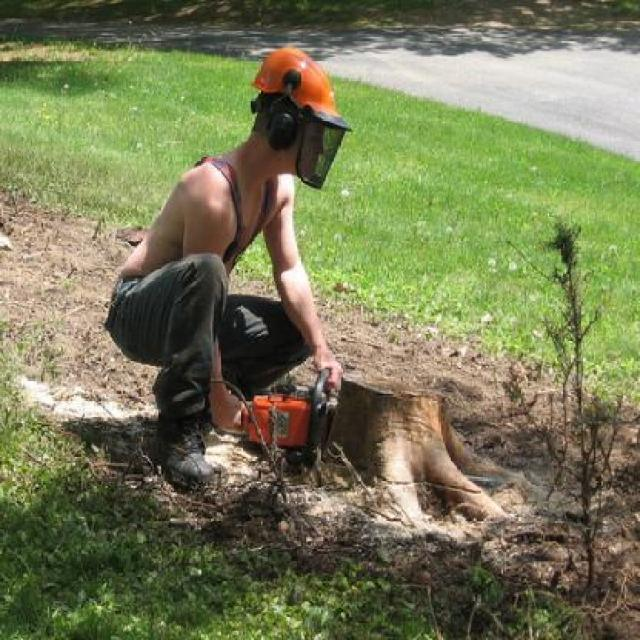Chainsaw: (208, 363, 338, 454)
